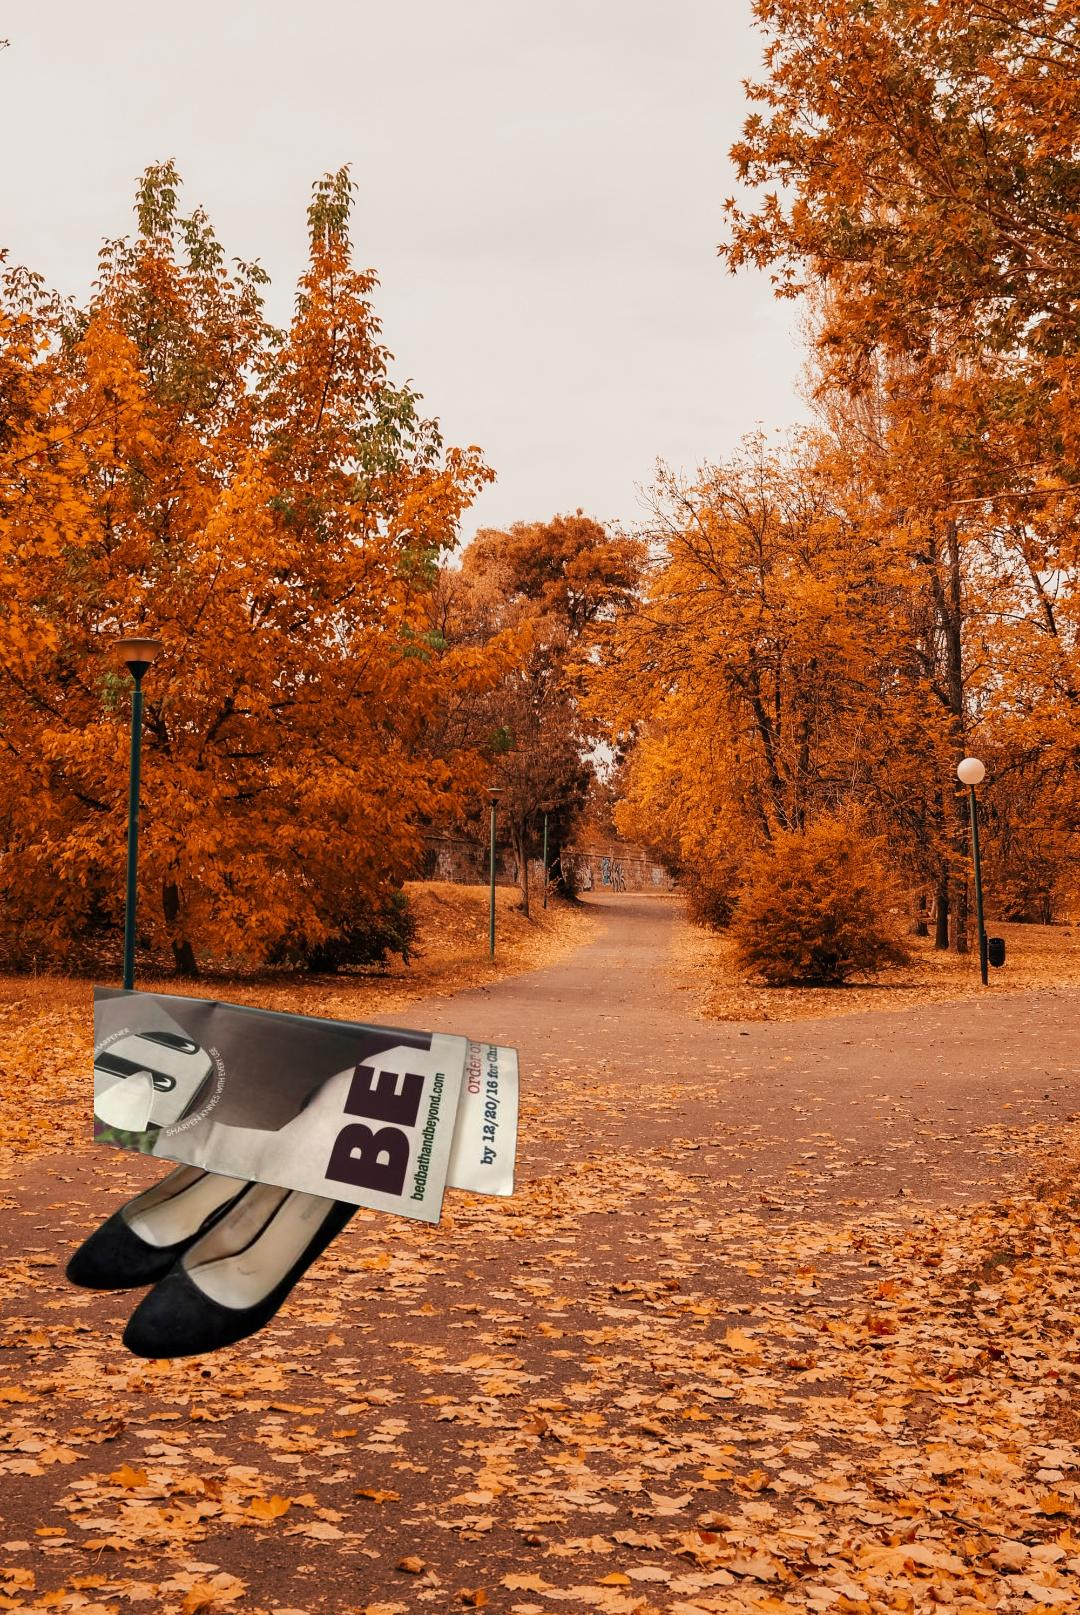paper: (94, 980, 523, 1228)
shoes: (61, 1080, 380, 1364)
